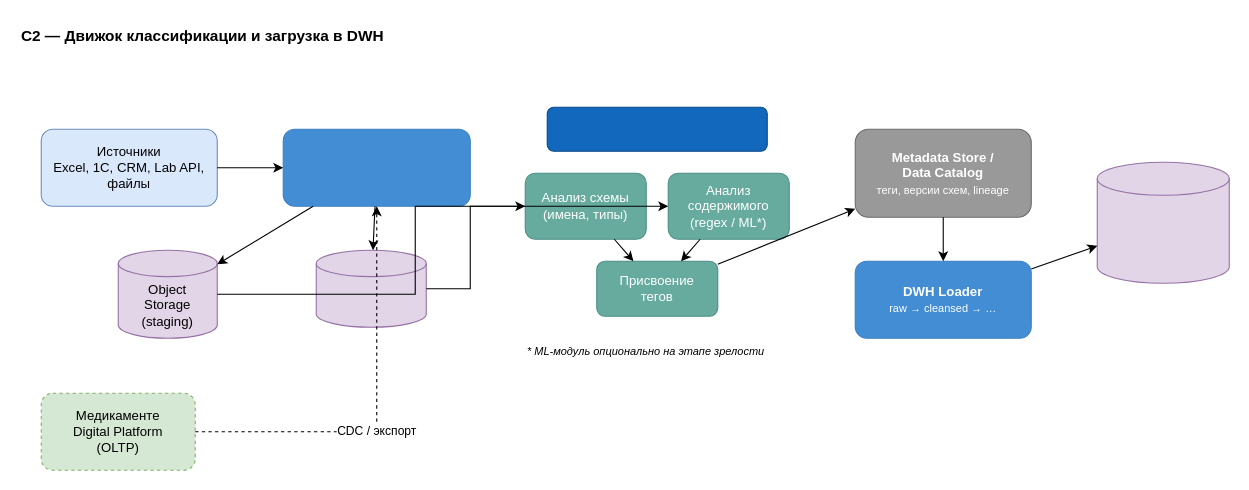
The diagram is 1249 pixels wide and 490 high, and some of its shapes have lost their labels. The box of each missing label's shape, as (x1, y1, x2, y2) in pixels:
Classification Engine: (546, 106, 767, 151)
DWH / Озеро raw | cleansed | anonymized | marts: (1096, 161, 1229, 283)
Ingestion Service batch / stream, валидация формата: (282, 128, 470, 206)
Очередь / Kafka: (315, 249, 426, 327)
